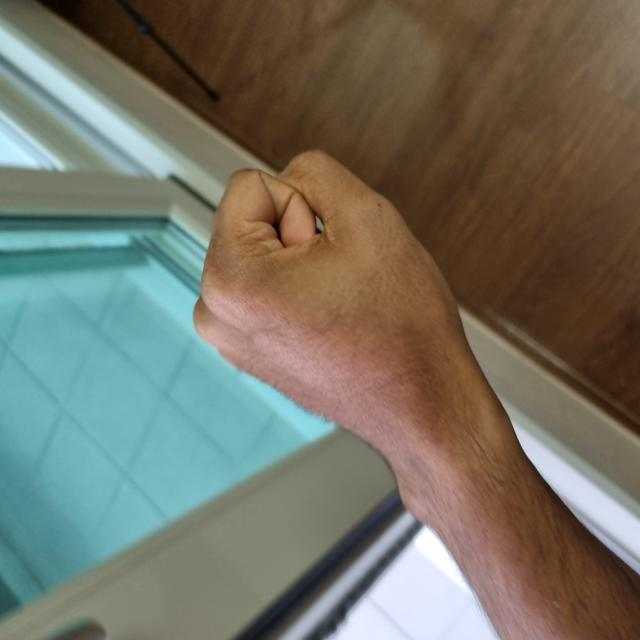Rock: (182, 193, 488, 464)
